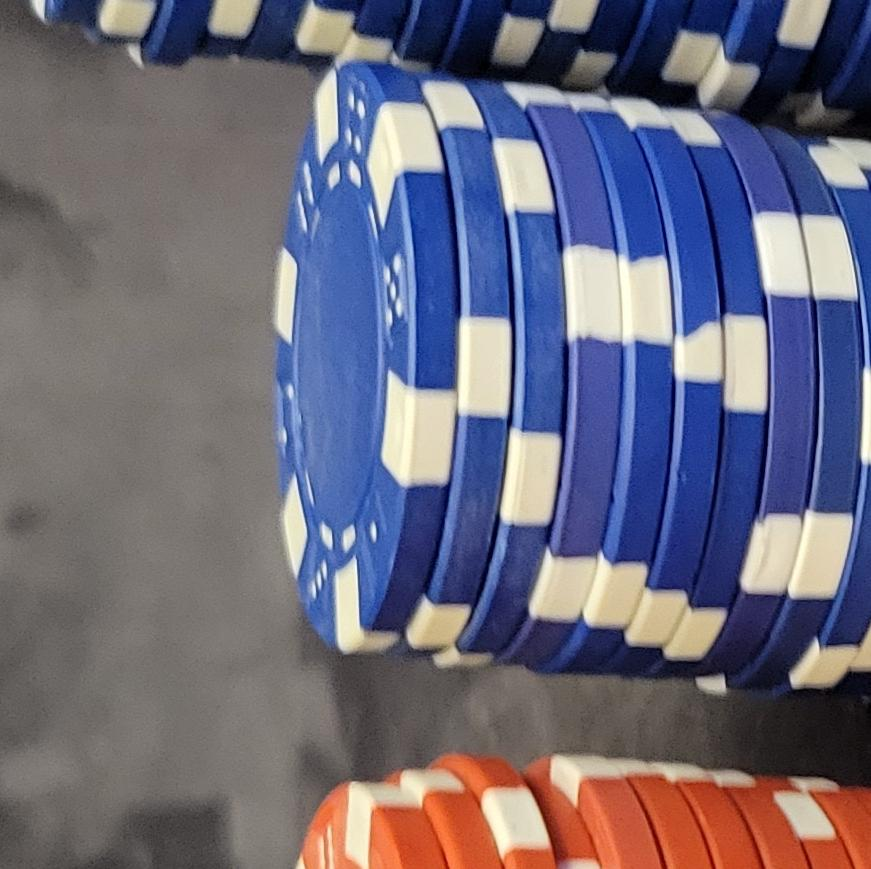Chip: (1, 282, 399, 869)
